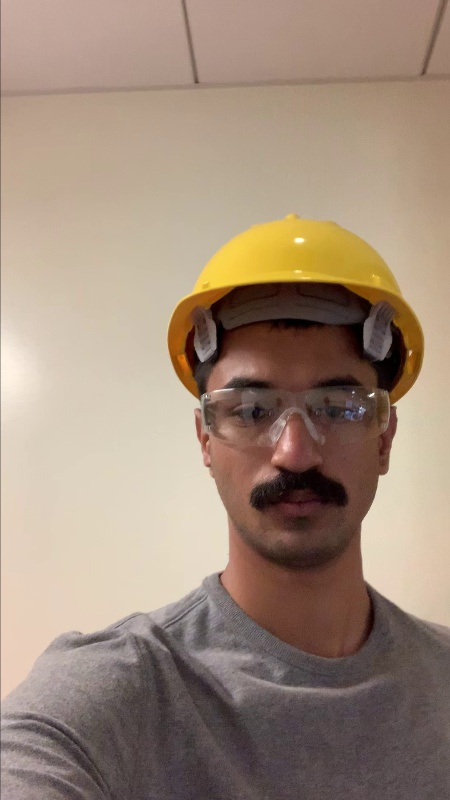glasses: (188, 382, 404, 444)
helmet: (192, 216, 408, 287)
